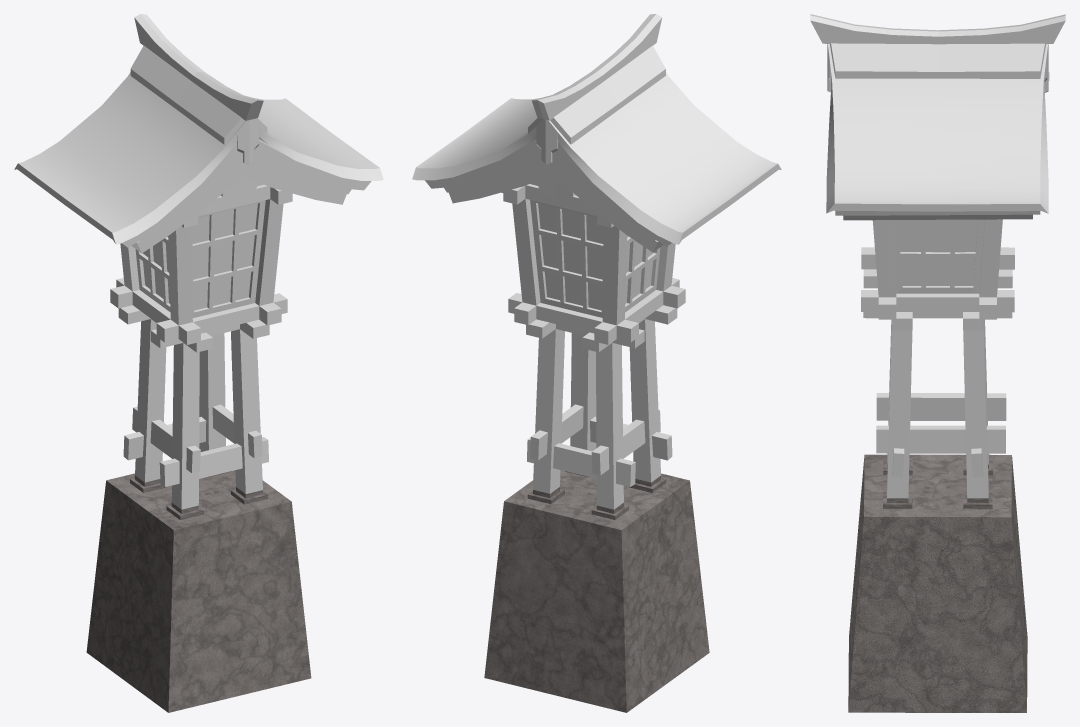
Rendered from Lampe.fbx.
3 renders of one model, left to right at view 1: azimuth 30°, elevation 25°; view 2: azimuth 150°, elevation 25°; view 3: azimuth 270°, elevation 25°, orthographic. The views are drawn at different scales.
Visible parts, largest first — view 1: Plane.077, Plane.081, Cube.147, Cube.146, Cube.145, Cube.144, Plane.078, Plane.083, Cube.156, Plane.082, Cube.150, Plane.079 (+6 smaller); view 2: Plane.077, Plane.081, Cube.147, Cube.146, Cube.145, Cube.144, Plane.078, Plane.083, Cube.156, Plane.082, Plane.079, Cube.150 (+6 smaller); view 3: Plane.077, Plane.081, Plane.083, Cube.147, Cube.151, Plane.082, Cube.145, Cube.156, Cube.146, Cube.144, Cube.152, Cube.148 (+5 smaller).
Part boxes in pixels (box(x1,y1,x2,y2)): Plane.077: box(86, 470, 311, 712); Plane.081: box(14, 72, 383, 244); Cube.147: box(135, 319, 262, 509); Cube.146: box(120, 192, 283, 325); Cube.145: box(142, 203, 257, 310); Cube.144: box(135, 200, 265, 317); Plane.078: box(122, 140, 371, 247); Plane.083: box(130, 45, 267, 144); Cube.156: box(111, 278, 287, 344); Plane.082: box(134, 14, 263, 120); Cube.150: box(124, 416, 268, 486); Plane.079: box(131, 164, 346, 253); Plane.077: box(484, 470, 709, 712); Plane.081: box(412, 72, 781, 244); Cube.147: box(533, 319, 660, 509); Cube.146: box(512, 180, 675, 325); Cube.145: box(538, 203, 653, 310); Cube.144: box(530, 200, 660, 317); Plane.078: box(425, 139, 671, 246); Plane.083: box(528, 45, 665, 144); Cube.156: box(508, 278, 685, 344); Plane.082: box(531, 14, 662, 120); Plane.079: box(448, 163, 663, 252); Cube.150: box(527, 416, 671, 486); Plane.077: box(848, 454, 1027, 712); Plane.081: box(826, 44, 1049, 213); Plane.083: box(830, 43, 1045, 78); Cube.147: box(887, 319, 988, 498); Cube.151: box(876, 393, 1006, 453); Plane.082: box(810, 14, 1065, 44); Cube.145: box(898, 219, 977, 285); Cube.156: box(861, 247, 1014, 312); Cube.146: box(872, 219, 1002, 297); Cube.144: box(891, 219, 984, 293); Cube.152: box(863, 269, 1012, 318); Cube.148: box(883, 458, 992, 509).
Size of the model in its own units: 1.66 by 3.61 by 1.27.
Materials: 5 (1 with a texture image).
